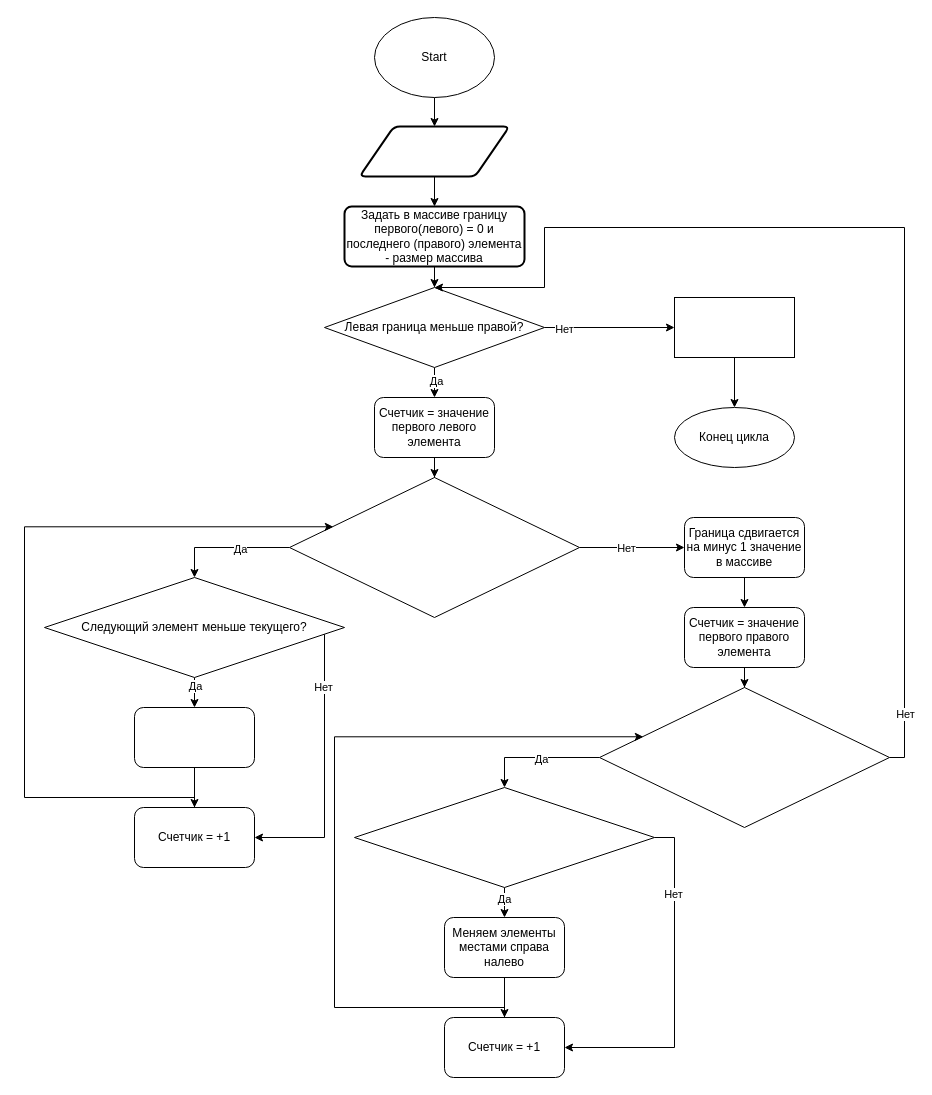
The diagram is 932 pixels wide and 1095 high, and some of its shapes have lost their labels. Here are the shapes that lost their labels. From the top down, the centre of each, then its label:
At [434,151]: "Создать массив".
At [734,327]: "Вывод массива".
At [434,547]: "Счетчик меньше границы правого элемента?".
At [194,737]: "Меняем элементы местами слева направо".
At [744,757]: "Счетчик меньше границы левого элемента?".
At [504,837]: "Предыдущий элемент Больше текущего?".
